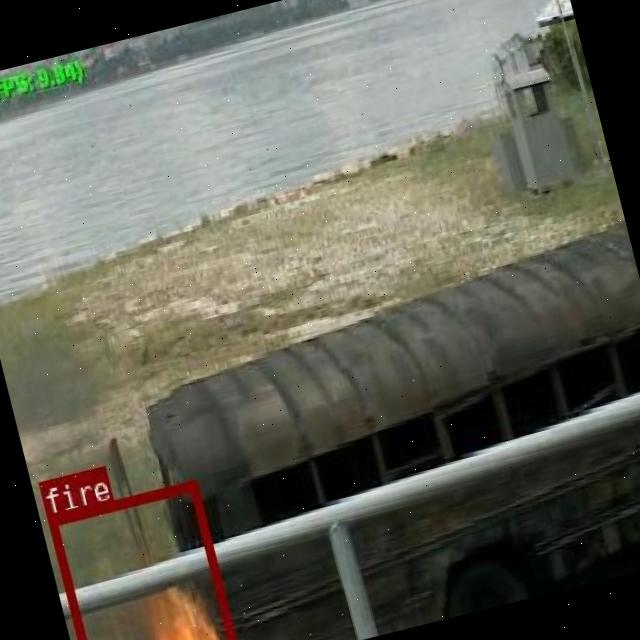fire: (46, 477, 239, 640)
